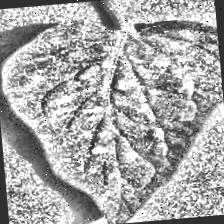spider mites: (0, 12, 224, 224)
